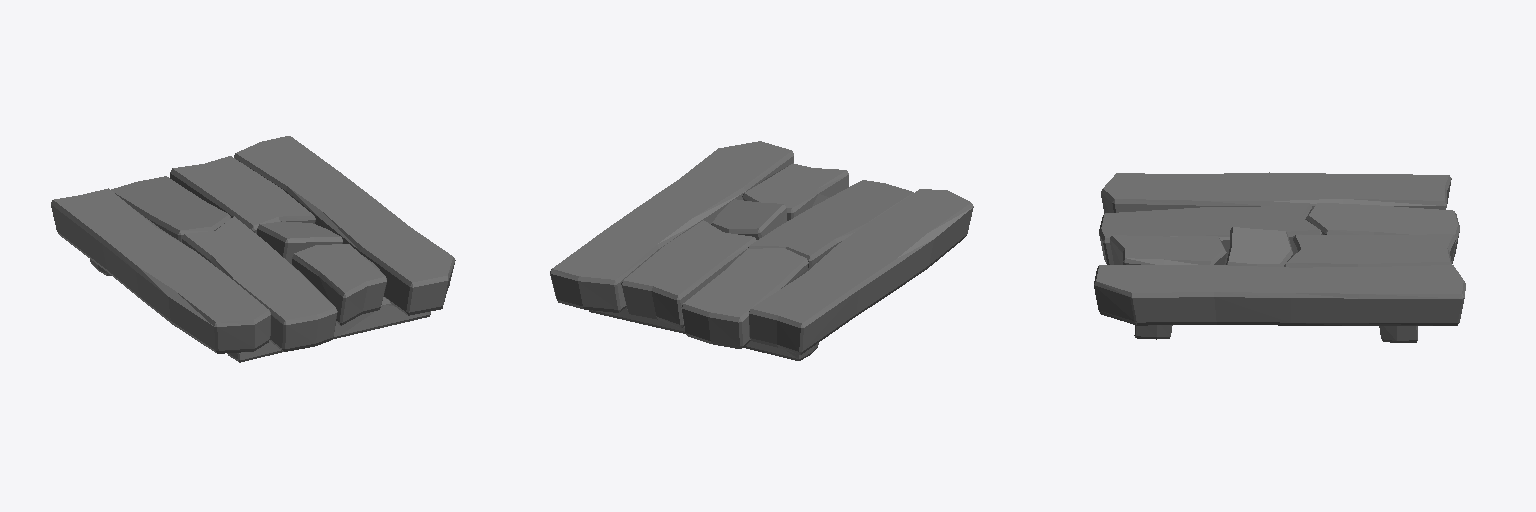
File: brokenPlank.obj
The picture shows the model from 3 angles: view 1: azimuth 30°, elevation 25°; view 2: azimuth 150°, elevation 25°; view 3: azimuth 270°, elevation 25°; orthographic projection.
Visible parts, largest first — view 1: PrisonPlank; view 2: PrisonPlank; view 3: PrisonPlank.
Boxes of the visible parts, x1,y1,x2,y2 form: PrisonPlank: [51, 136, 455, 362]; PrisonPlank: [550, 141, 973, 360]; PrisonPlank: [1094, 172, 1465, 342].
Bounding box in the file's own units: 10.92 × 2.7 × 13.86.